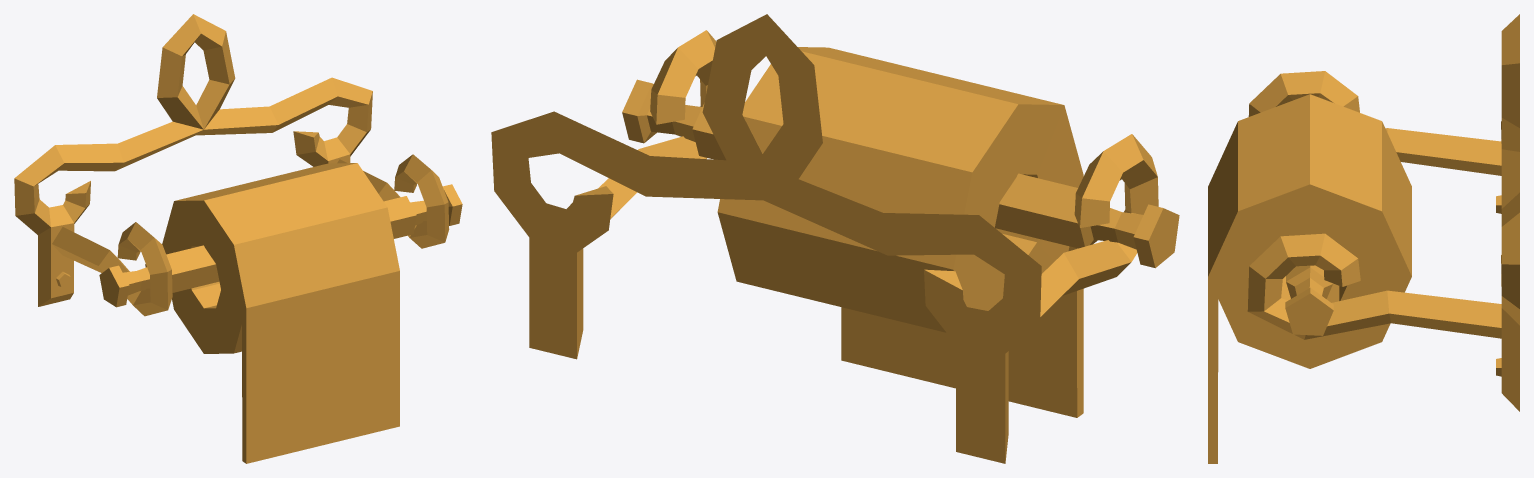
The model's file is SM_Toilet_Holder_Paper_Victorian.fbx.
The picture shows the model from 3 angles, left to right: view 1: azimuth 30°, elevation 25°; view 2: azimuth 150°, elevation 25°; view 3: azimuth 270°, elevation 25°; orthographic projection. The views are drawn at different scales.
Parts seen in each view (by area): view 1: toilet-holder-paper-victorian; view 2: toilet-holder-paper-victorian; view 3: toilet-holder-paper-victorian.
Boxes of the visible parts, x1,y1,x2,y2 form: toilet-holder-paper-victorian: [14, 14, 462, 463]; toilet-holder-paper-victorian: [491, 14, 1179, 463]; toilet-holder-paper-victorian: [1208, 14, 1519, 463].
Bounding box in the file's own units: 0.245 × 0.2196 × 0.1533.
